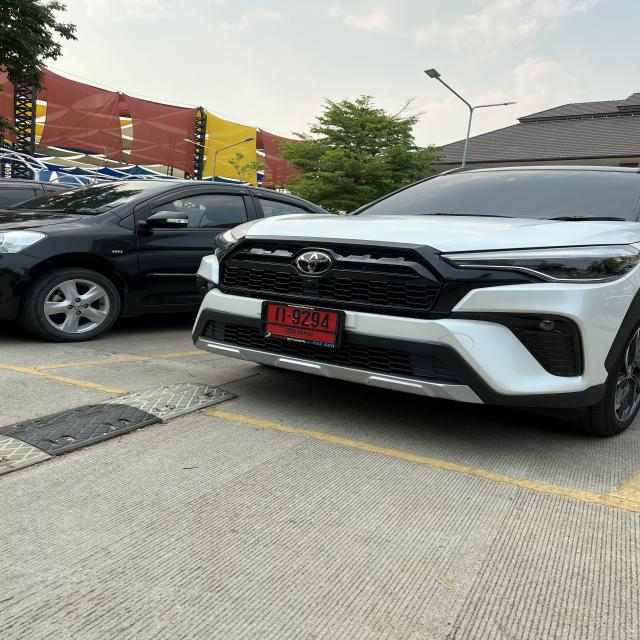license_plate: (259, 299, 348, 354)
